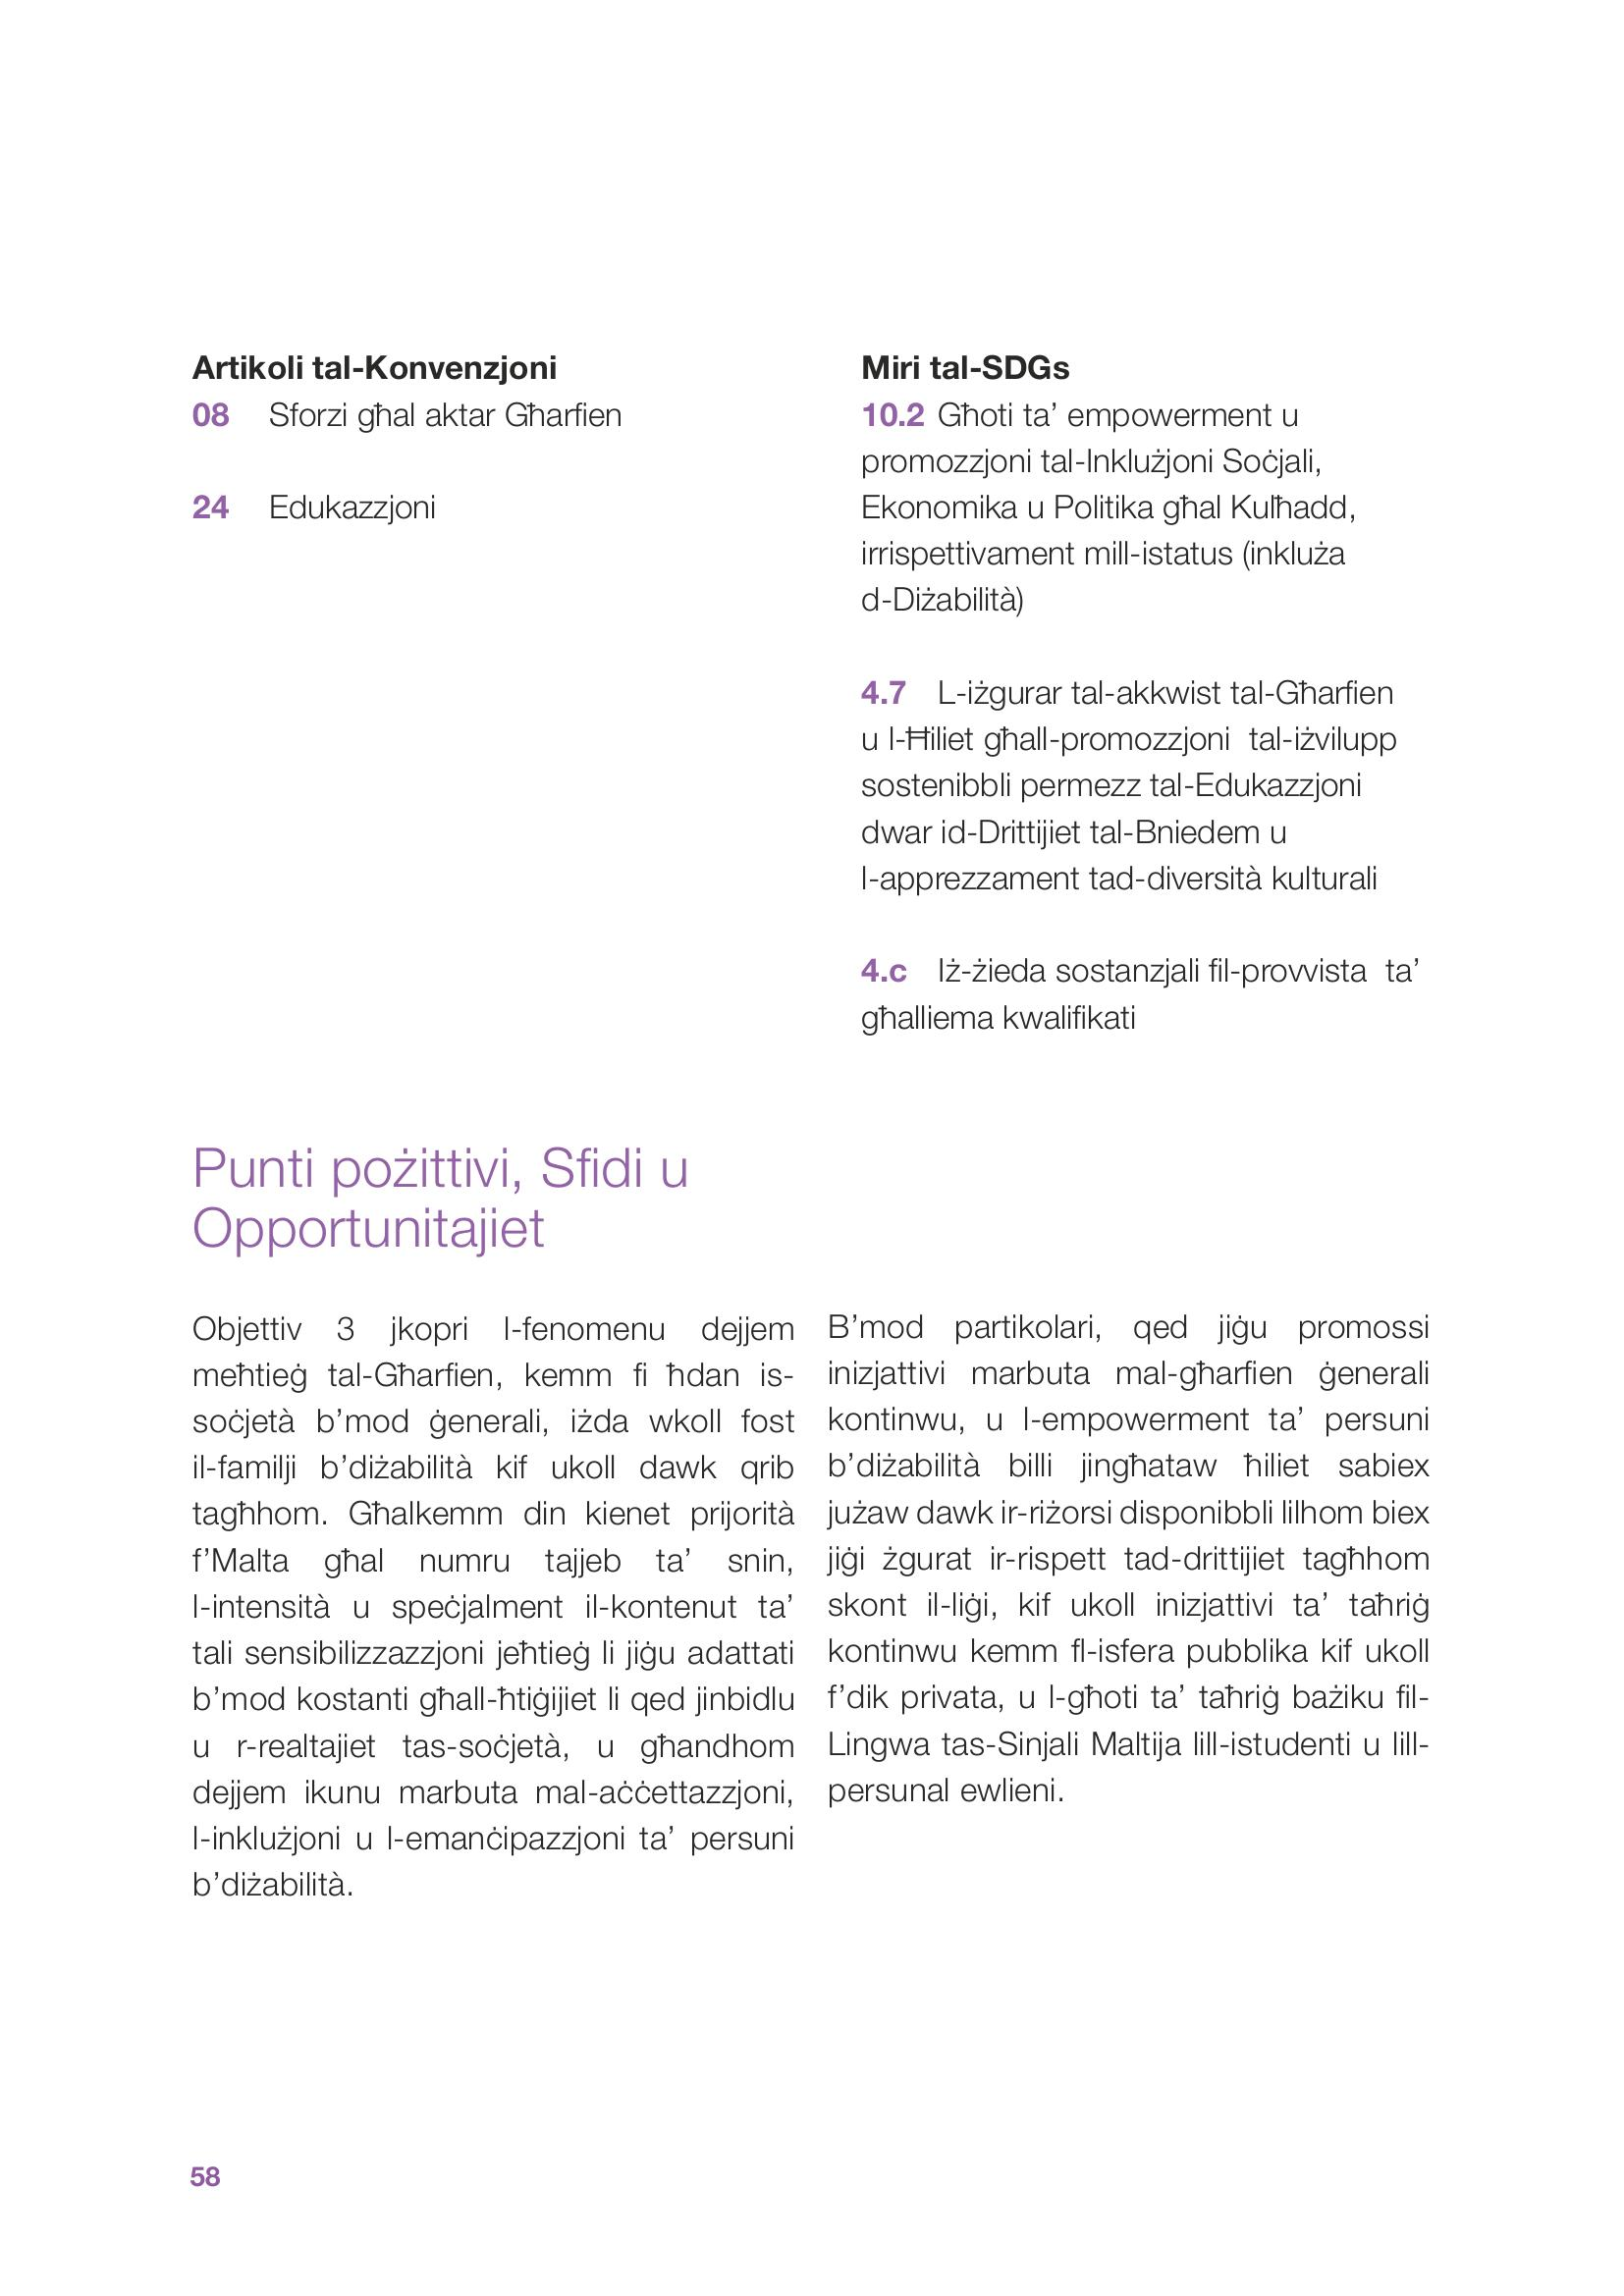text: (146, 1121, 814, 2008), (810, 1291, 1450, 1823)
